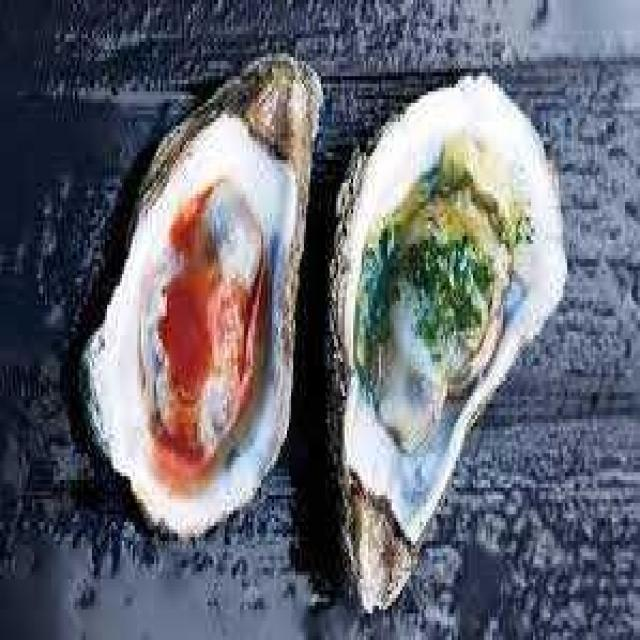Oyster-Open: (67, 38, 324, 546), (332, 75, 566, 611)
